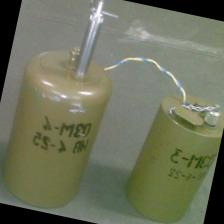OZM-72: (0, 24, 122, 221), (121, 72, 224, 224)
